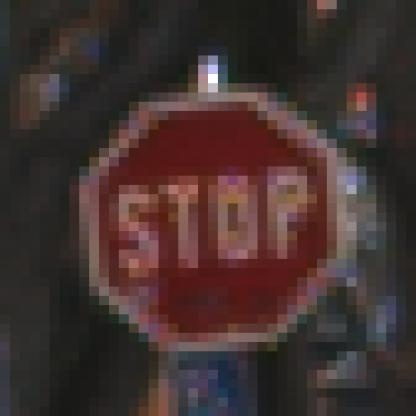stop: (74, 93, 346, 357)
